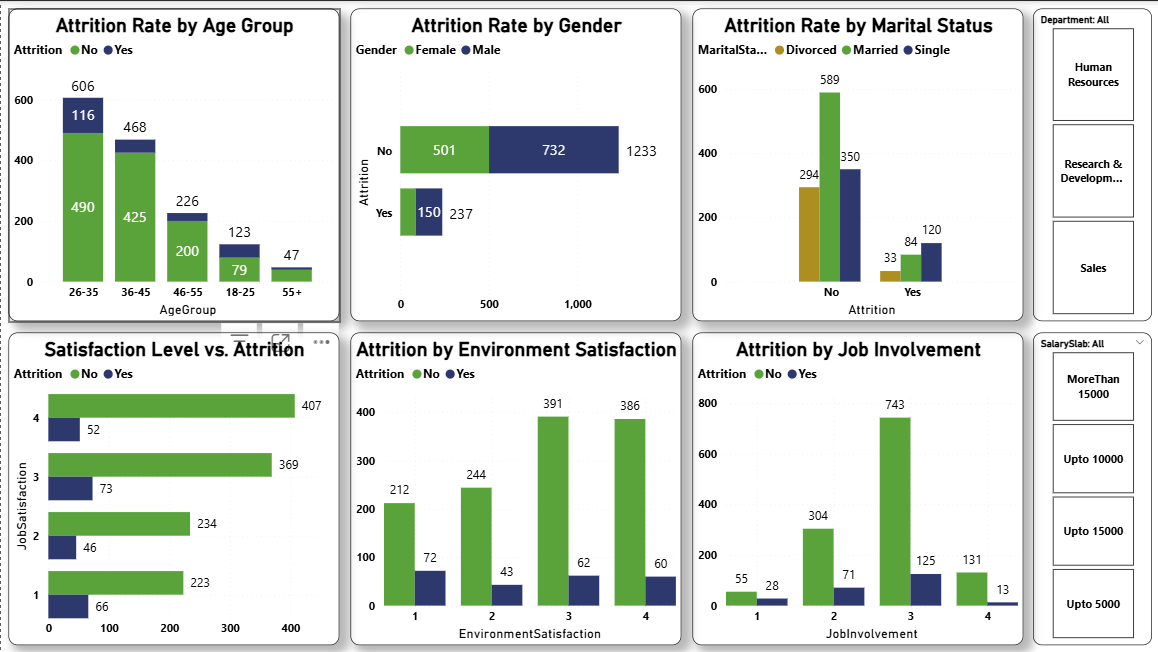

The dashboard page shown, as its layout file describes it:
{"tool":"powerbi","page":{"name":"Demographic Influence","canvas":[1280,720],"ordinal":1},"visuals":[{"type":"columnChart","title":"Attrition Rate by Age Group","fields":{"Category":["emp_data.AgeGroup"],"Series":["emp_data.Attrition"],"Y":["CountNonNull(emp_data.AgeGroup)"]},"box":[8.3,8.3,365.6,345.6],"z":0},{"type":"barChart","title":"Attrition Rate by Gender","fields":{"Category":["emp_data.Attrition"],"Series":["emp_data.Gender"],"Y":["CountNonNull(emp_data.Gender)"]},"box":[385.5,8.3,365.6,345.6],"z":1000},{"type":"clusteredColumnChart","title":"Attrition Rate by Marital Status","fields":{"Category":["emp_data.Attrition"],"Series":["emp_data.MaritalStatus"],"Y":["CountNonNull(emp_data.MaritalStatus)"]},"box":[764.3,8.3,365.6,345.6],"z":2000},{"type":"clusteredBarChart","title":"Satisfaction Level vs. Attrition","fields":{"Category":["emp_data.JobSatisfaction"],"Series":["emp_data.Attrition"],"Y":["CountNonNull(emp_data.Attrition)"]},"box":[8.3,365.6,365.6,345.6],"z":3000},{"type":"clusteredColumnChart","title":"Attrition by Environment Satisfaction","fields":{"Category":["emp_data.EnvironmentSatisfaction"],"Y":["CountNonNull(emp_data.Attrition)"],"Series":["emp_data.Attrition"]},"box":[385.5,365.6,365.6,345.6],"z":4000},{"type":"clusteredColumnChart","title":"Attrition by Job Involvement","fields":{"Y":["CountNonNull(emp_data.Attrition)"],"Series":["emp_data.Attrition"],"Category":["emp_data.JobInvolvement"]},"box":[764.3,365.6,365.6,345.6],"z":5000},{"type":"slicer","fields":{"Values":["emp_data.Department"]},"box":[1139.9,8.3,131.3,345.6],"z":6000},{"type":"slicer","fields":{"Values":["emp_data.SalarySlab"]},"box":[1139.9,365.6,131.3,345.6],"z":7000}]}

Visuals, with their boxes in screenshot pixels (x1, y1, x2, y2), scaled from the page's 1280x720 canvas onto the 1158x652 screenshot:
"Attrition Rate by Age Group" columnChart: (x1=8, y1=8, x2=338, y2=320)
"Attrition Rate by Gender" barChart: (x1=349, y1=8, x2=680, y2=320)
"Attrition Rate by Marital Status" clusteredColumnChart: (x1=691, y1=8, x2=1022, y2=320)
"Satisfaction Level vs. Attrition" clusteredBarChart: (x1=8, y1=331, x2=338, y2=644)
"Attrition by Environment Satisfaction" clusteredColumnChart: (x1=349, y1=331, x2=680, y2=644)
"Attrition by Job Involvement" clusteredColumnChart: (x1=691, y1=331, x2=1022, y2=644)
slicer - emp_data.Department: (x1=1031, y1=8, x2=1150, y2=320)
slicer - emp_data.SalarySlab: (x1=1031, y1=331, x2=1150, y2=644)
